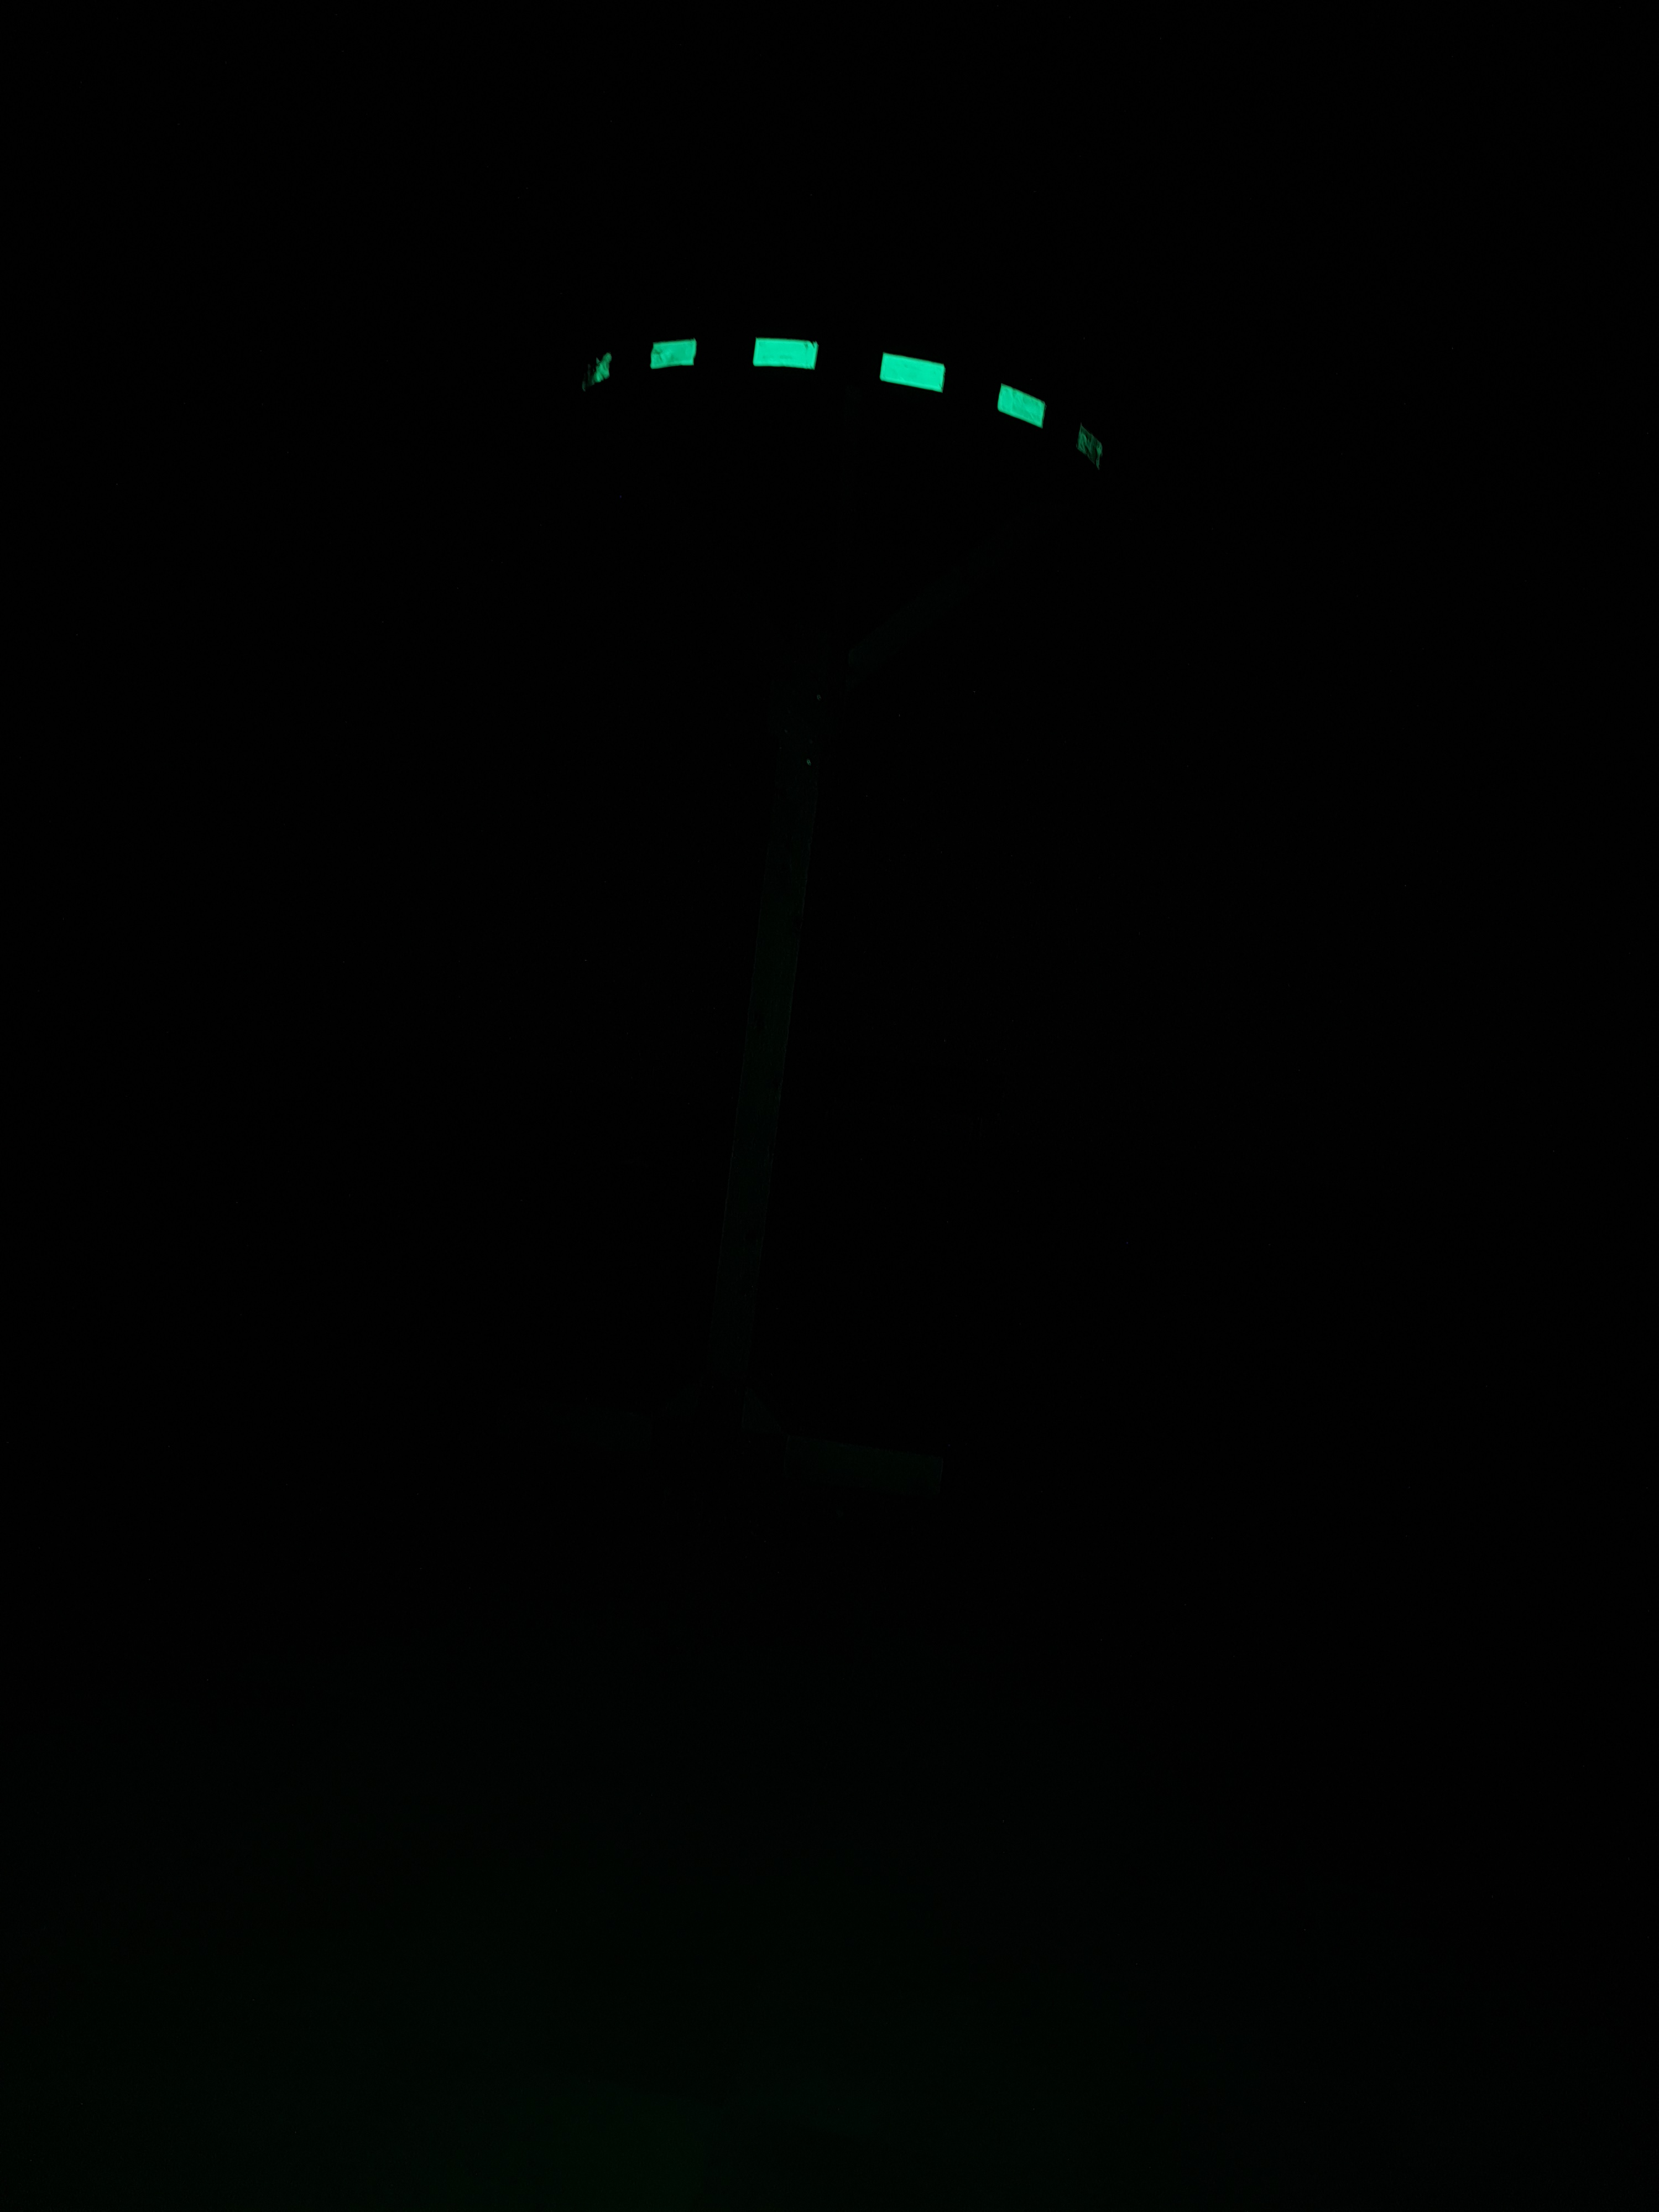hoop: (579, 327, 1112, 477)
